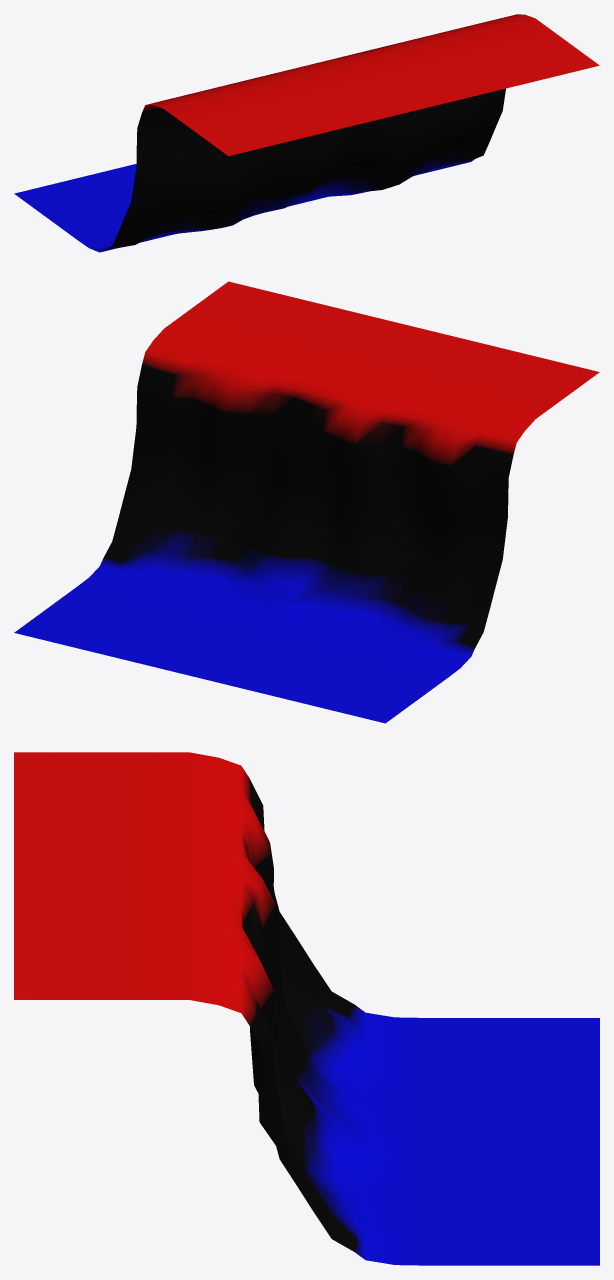
Rendered from RiveCliff01A Foreground.fbx.
The picture shows the model from 3 angles, top to bottom: view 1: azimuth 30°, elevation 25°; view 2: azimuth 150°, elevation 25°; view 3: azimuth 270°, elevation 25°; orthographic projection. The views are drawn at different scales.
Parts seen in each view (by area): view 1: RiveCliff01A Foreground; view 2: RiveCliff01A Foreground; view 3: RiveCliff01A Foreground.
Boxes of the visible parts, <box> form: RiveCliff01A Foreground: <box>14,14,599,252</box>; RiveCliff01A Foreground: <box>14,281,599,723</box>; RiveCliff01A Foreground: <box>14,752,599,1265</box>.
Size of the model in its own units: 2 by 1 by 2.
